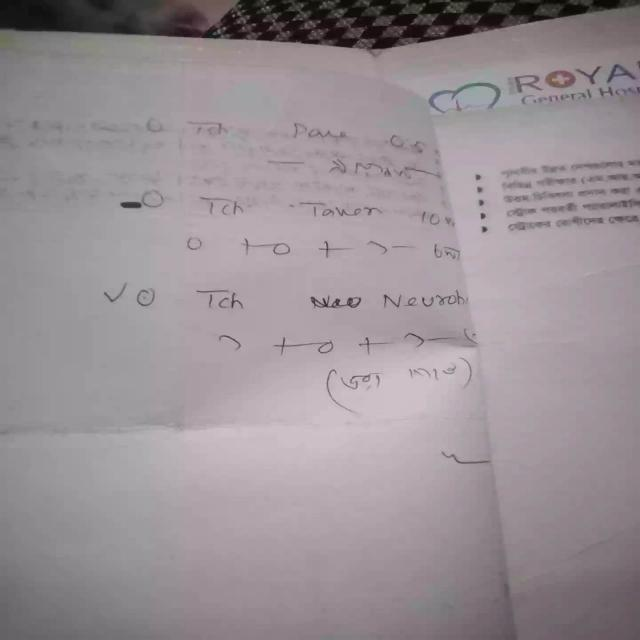Pave: (280, 112, 355, 149)
Tamen: (292, 193, 393, 224)
